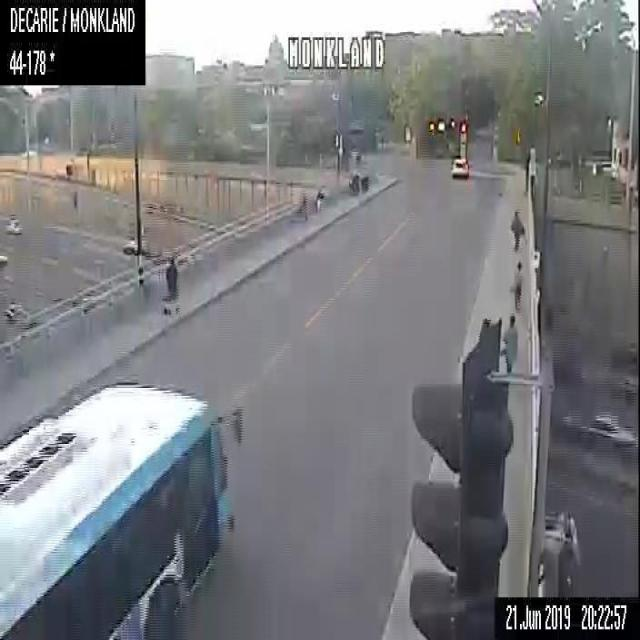bus: (0, 376, 241, 639)
pedestrian: (500, 313, 519, 372), (162, 249, 179, 308), (509, 260, 526, 314), (508, 205, 526, 255), (349, 168, 361, 195), (314, 184, 324, 213)
vehicle: (556, 406, 638, 458), (122, 231, 148, 255), (449, 154, 469, 178), (5, 217, 22, 235), (0, 634, 2, 638)
